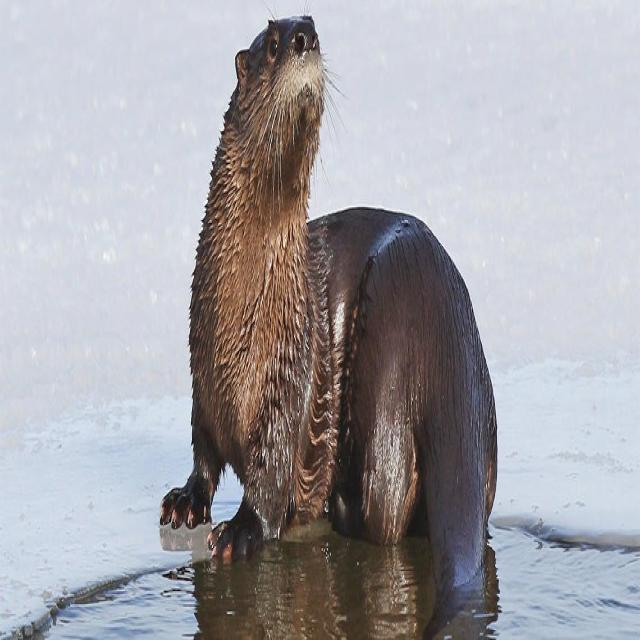Otter: (164, 15, 509, 570)
